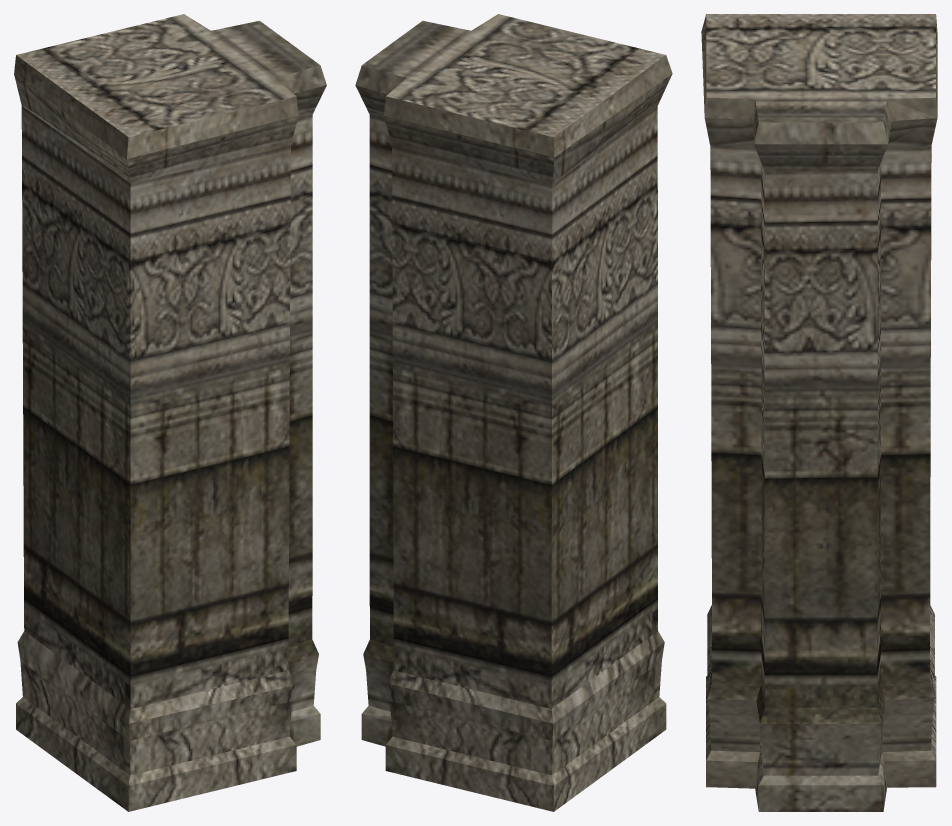
Rendered from SM_Plains_Column_Mid_01.FBX.
The picture shows the model from 3 angles, left to right: view 1: azimuth 30°, elevation 25°; view 2: azimuth 150°, elevation 25°; view 3: azimuth 270°, elevation 25°; orthographic projection. The views are drawn at different scales.
Visible parts, largest first — view 1: SM_Plains_Column_Mid_01; view 2: SM_Plains_Column_Mid_01; view 3: SM_Plains_Column_Mid_01.
Boxes of the visible parts, x1,y1,x2,y2 form: SM_Plains_Column_Mid_01: (14,14,326,811); SM_Plains_Column_Mid_01: (355,14,672,811); SM_Plains_Column_Mid_01: (701,14,937,811).
Bounding box in the file's own units: 57.14 × 163 × 50.62.
